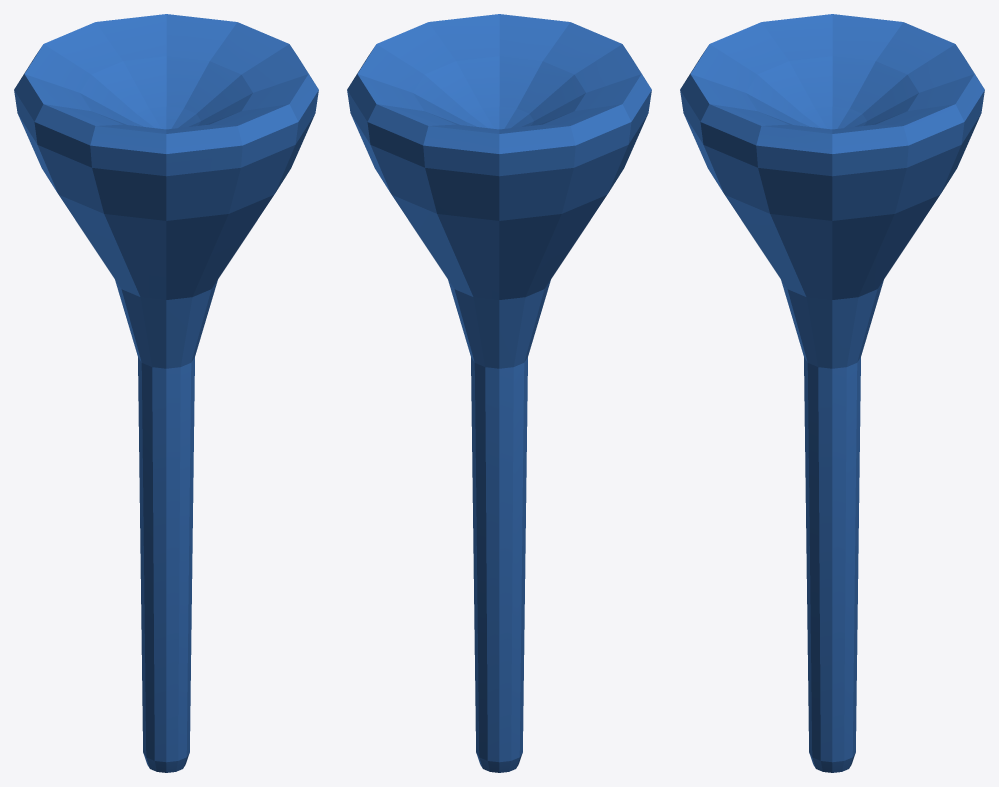
File: tee_marker_tee_blue.glb
The picture shows the model from 3 angles, left to right: view 1: azimuth 30°, elevation 25°; view 2: azimuth 150°, elevation 25°; view 3: azimuth 270°, elevation 25°; orthographic projection.
Parts seen in each view (by area): view 1: Body; view 2: Body; view 3: Body.
Boxes of the visible parts, box(x1,y1,x2,y2) form: Body: box(14, 14, 318, 772); Body: box(347, 14, 651, 772); Body: box(680, 14, 984, 772).
Size of the model in its own units: 0.176 by 0.44 by 0.176.
Materials: 1 (1 with a texture image).
